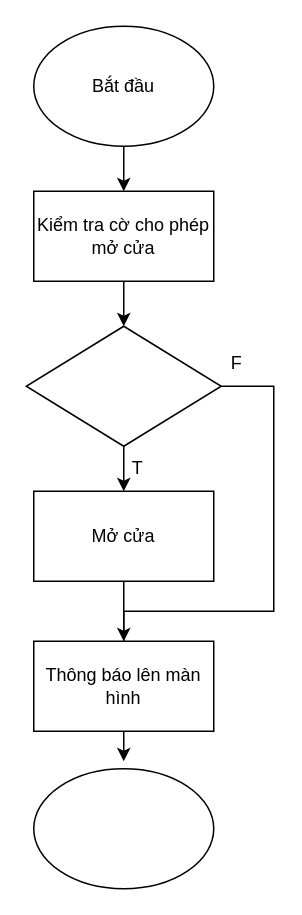
Image size: 302x915. Some labels were removed from this diagram. Here are the shapes that lost their labels. From the top down, the centre of each, then its label:
At point 123,385: "Cho phép mở cửa".
At point 123,828: "Kết thúc".
